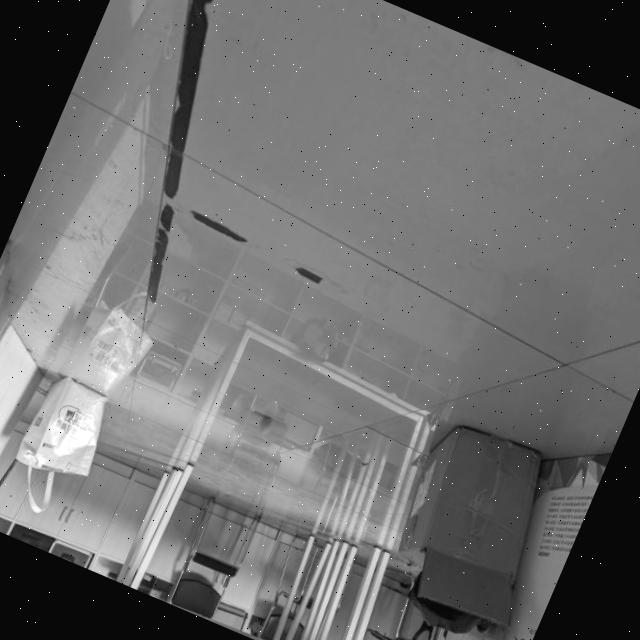ping-pong-ball: (254, 413, 274, 435)
